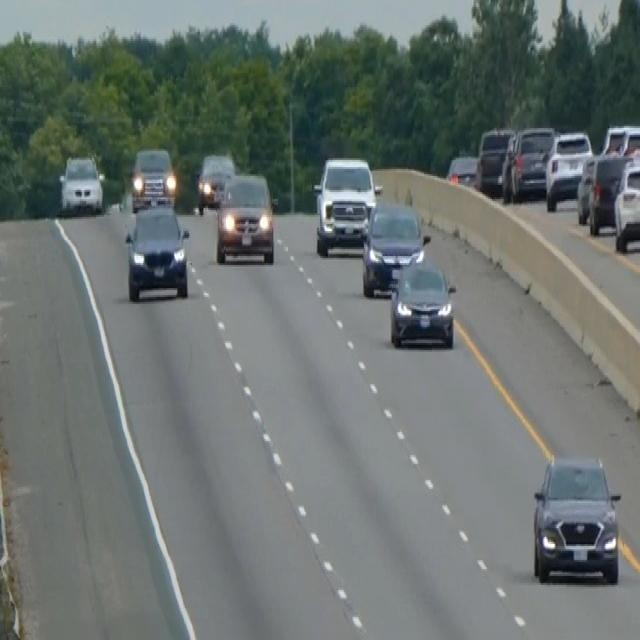car: (531, 450, 622, 585), (360, 197, 429, 297), (388, 254, 456, 348), (501, 122, 555, 202), (544, 128, 593, 212), (587, 149, 632, 235), (58, 151, 103, 215), (475, 124, 514, 192), (613, 156, 639, 252), (195, 151, 235, 213), (575, 151, 598, 222), (601, 121, 639, 160), (445, 151, 479, 189)
jeep: (311, 153, 381, 256), (123, 201, 190, 302)
minivan: (215, 169, 275, 265)
